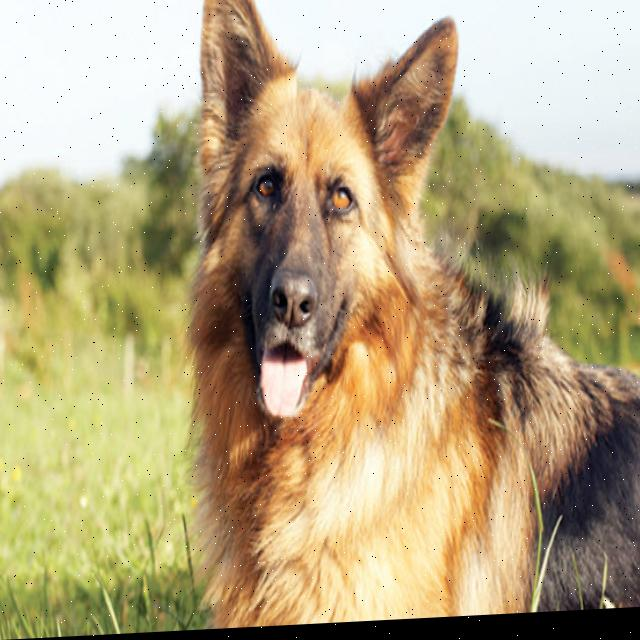GERMAN_SHEPHERD: (160, 0, 640, 633)
